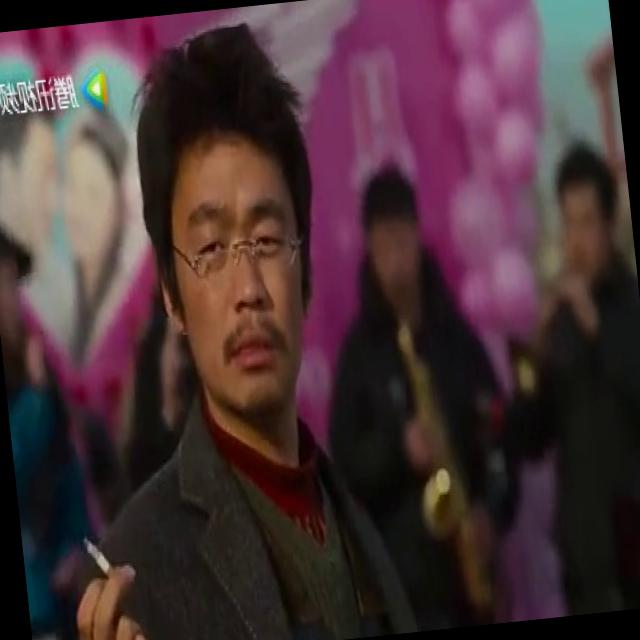smoke: (80, 532, 113, 581)
